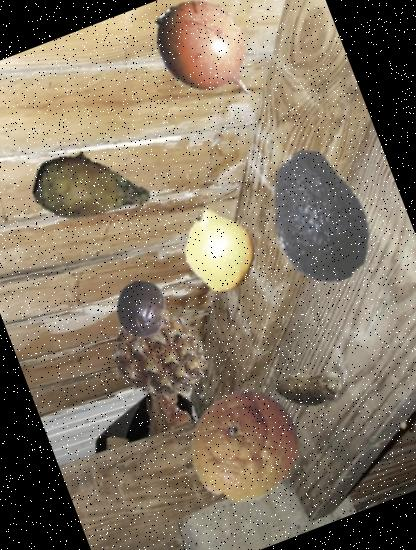Avocado: (230, 128, 406, 306)
Cactus: (14, 112, 169, 266)
Ginger: (264, 344, 351, 431)
Granadilla: (131, 0, 283, 129)
Mandarine: (172, 374, 318, 520)
Passion: (104, 272, 180, 348)
Pineapple: (95, 291, 224, 420)
Quince: (164, 194, 274, 304)
